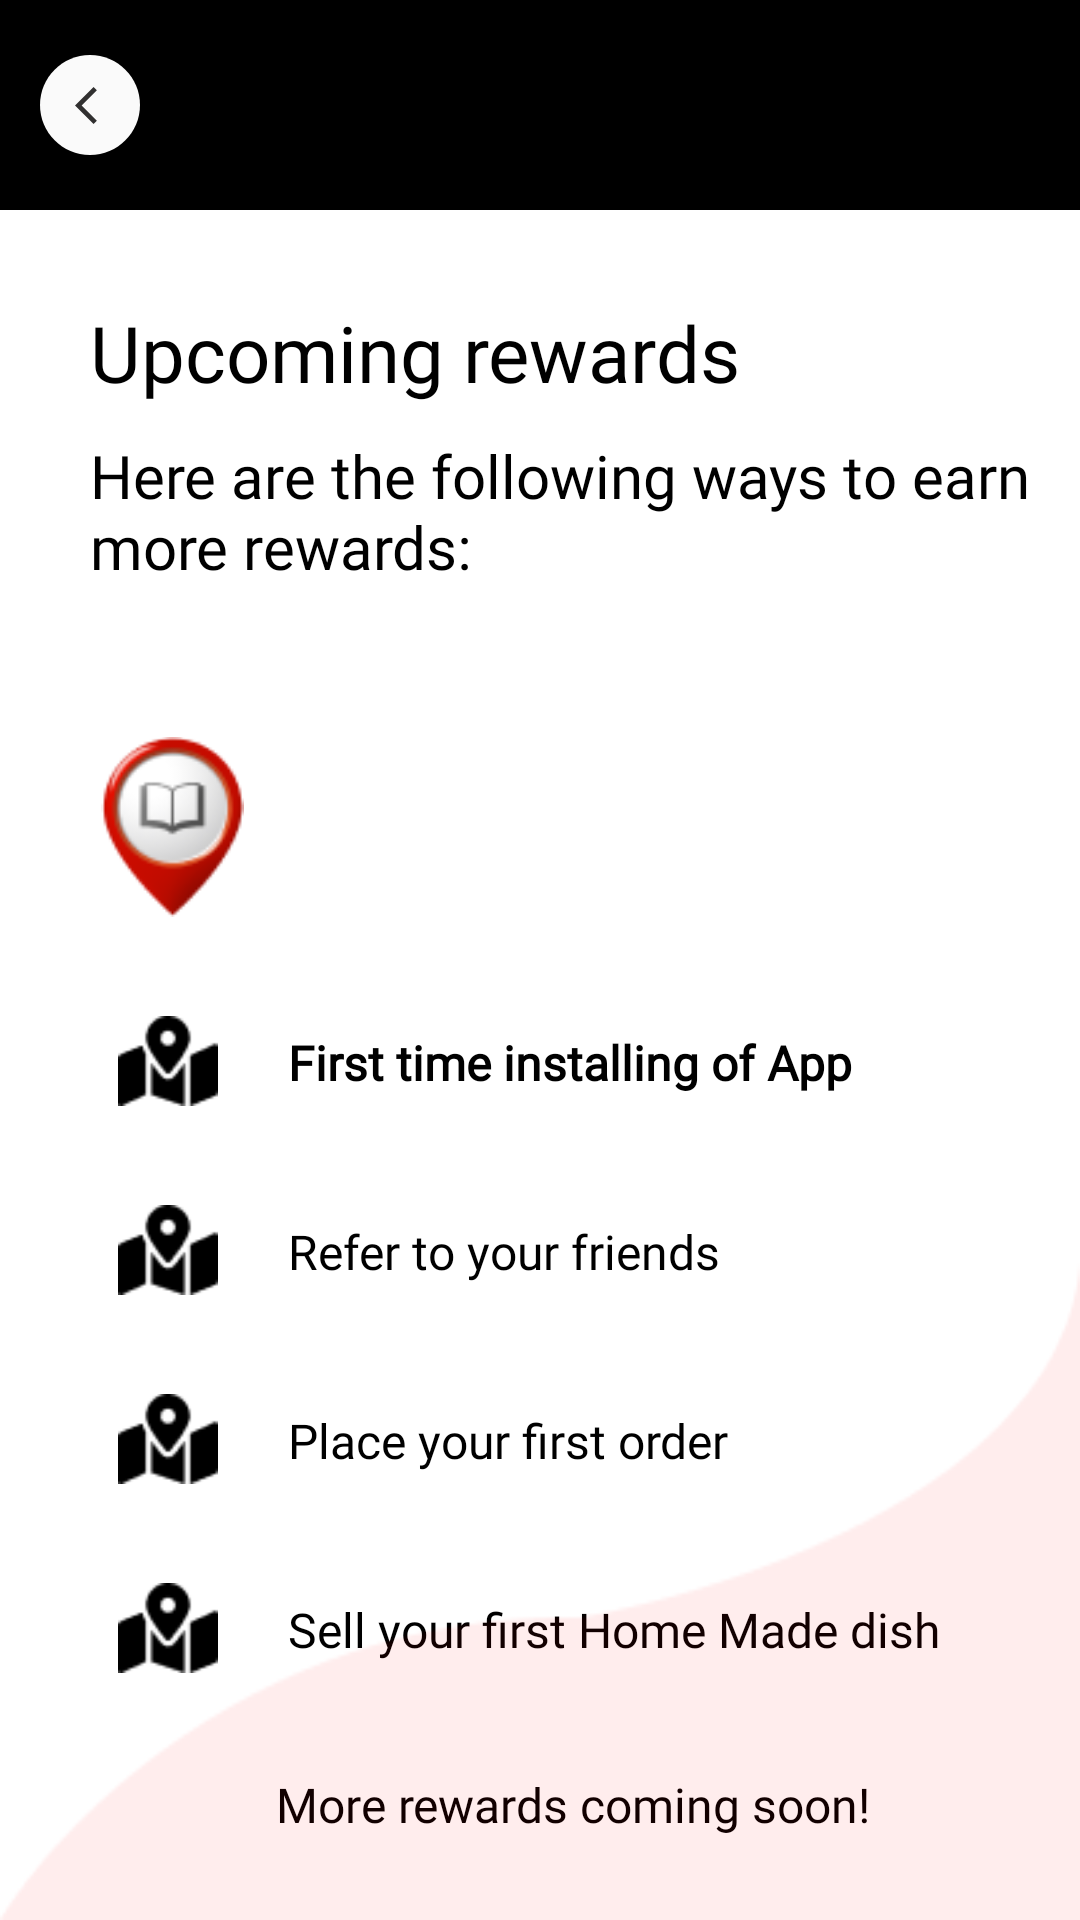

Icons on this 1080 × 1920 Android screen, each with its box as detection(x1, y1, x2, y2):
education: detection(103, 737, 244, 917)
